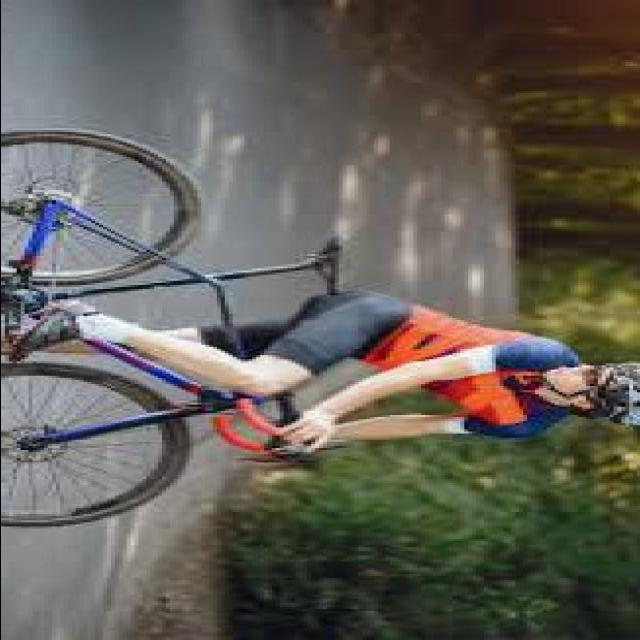bicycle: (4, 162, 354, 517)
